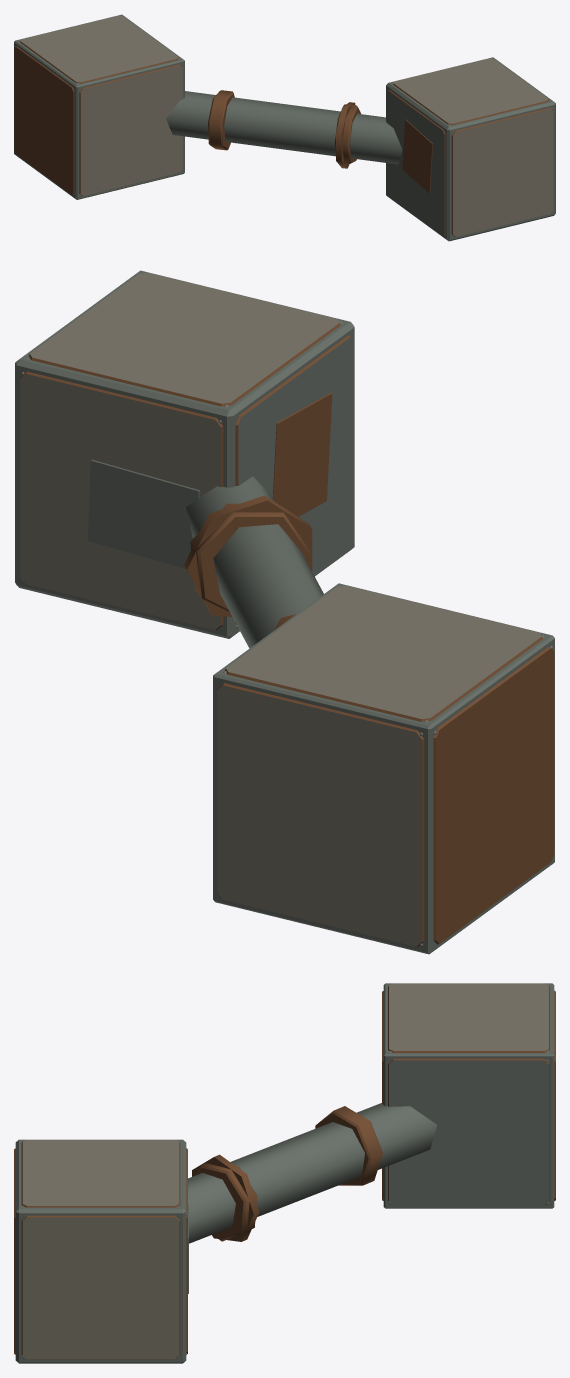
File: R4C_STRUT_DIAG_2D.fbx
The picture shows the model from 3 angles, top to bottom: view 1: azimuth 30°, elevation 25°; view 2: azimuth 150°, elevation 25°; view 3: azimuth 270°, elevation 25°; orthographic projection. The views are drawn at different scales.
Visible parts, largest first — view 1: R4C_STRUT_DIAG_2D; view 2: R4C_STRUT_DIAG_2D; view 3: R4C_STRUT_DIAG_2D.
Part boxes in pixels (x1,y1,x2,y2): R4C_STRUT_DIAG_2D: (14, 14, 555, 241); R4C_STRUT_DIAG_2D: (15, 270, 554, 954); R4C_STRUT_DIAG_2D: (14, 983, 555, 1363).
Bounding box in the file's own units: 1.62 × 0.52 × 1.62.
